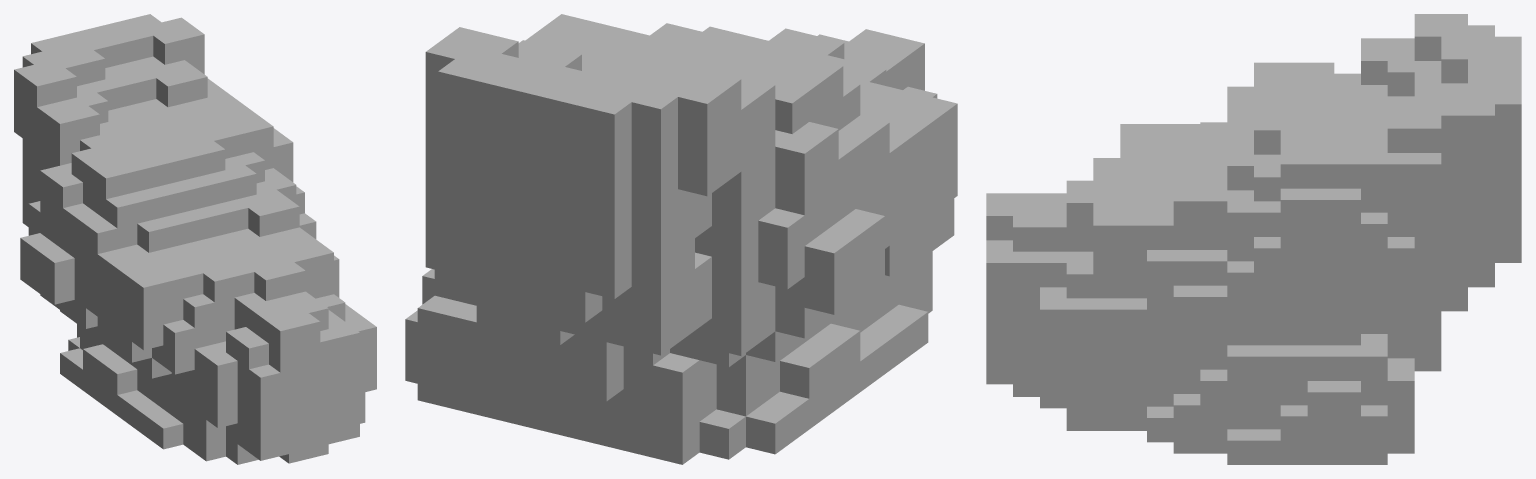
The model's file is MediumRock2.obj.
The picture shows the model from 3 angles, left to right: view 1: azimuth 30°, elevation 25°; view 2: azimuth 150°, elevation 25°; view 3: azimuth 270°, elevation 25°; orthographic projection. The views are drawn at different scales.
Size of the model in its own units: 14 by 13 by 20.
Materials: 1 (1 with a texture image).
